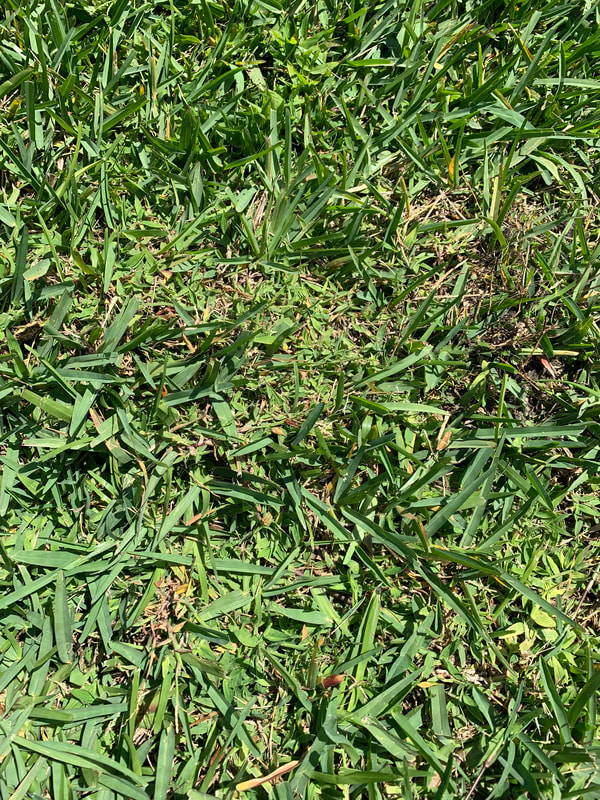crabgrass: (24, 75, 559, 800)
